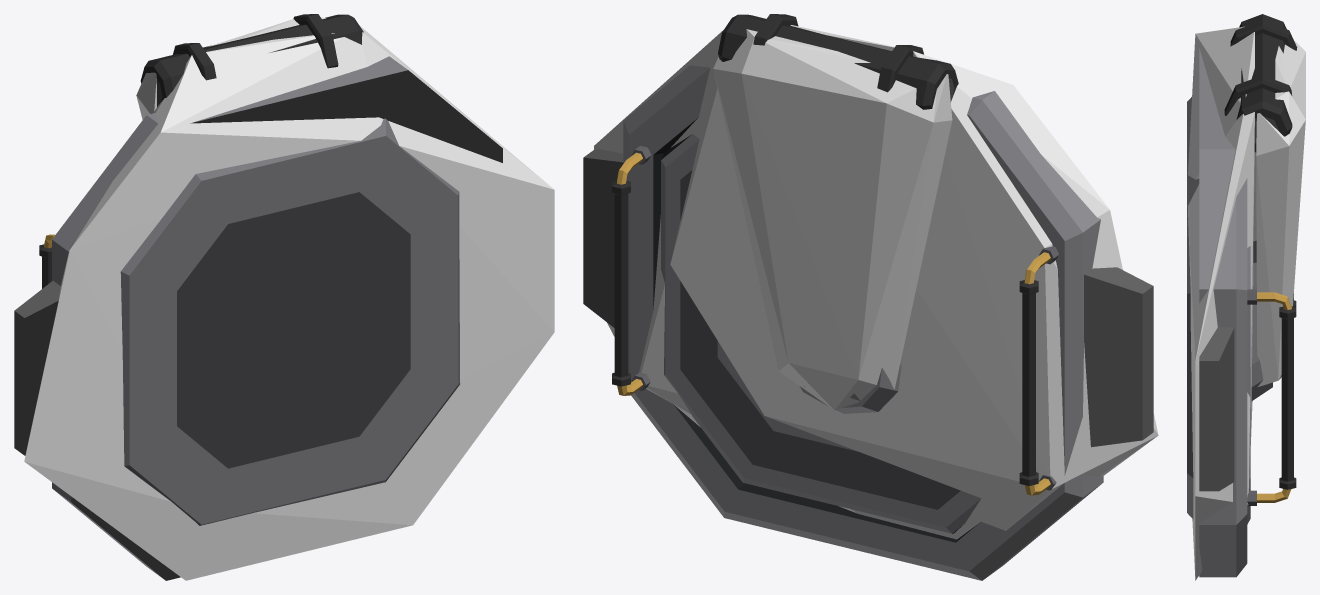
The model's file is SM_Bld_Wall_Esc_Hatch_Door_01.fbx.
The picture shows the model from 3 angles, left to right: view 1: azimuth 30°, elevation 25°; view 2: azimuth 150°, elevation 25°; view 3: azimuth 270°, elevation 25°; orthographic projection. The views are drawn at different scales.
Visible parts, largest first — view 1: SM_Bld_Wall_Esc_Hatch_Door_01_LOD0, SM_Bld_Wall_Esc_Hatch_Door_01_ConvexHulls; view 2: SM_Bld_Wall_Esc_Hatch_Door_01_ConvexHulls, SM_Bld_Wall_Esc_Hatch_Door_01_LOD0; view 3: SM_Bld_Wall_Esc_Hatch_Door_01_LOD0, SM_Bld_Wall_Esc_Hatch_Door_01_ConvexHulls.
Boxes of the visible parts, left/top/right/bottom form: SM_Bld_Wall_Esc_Hatch_Door_01_LOD0: left=14, top=14, right=502, bottom=580; SM_Bld_Wall_Esc_Hatch_Door_01_ConvexHulls: left=24, top=17, right=554, bottom=580; SM_Bld_Wall_Esc_Hatch_Door_01_ConvexHulls: left=594, top=25, right=1158, bottom=539; SM_Bld_Wall_Esc_Hatch_Door_01_LOD0: left=583, top=14, right=1153, bottom=580; SM_Bld_Wall_Esc_Hatch_Door_01_LOD0: left=1187, top=14, right=1297, bottom=577; SM_Bld_Wall_Esc_Hatch_Door_01_ConvexHulls: left=1187, top=26, right=1305, bottom=580.
Size of the model in its own units: 48.87 by 239 by 215.
1 material, 1 textured.
